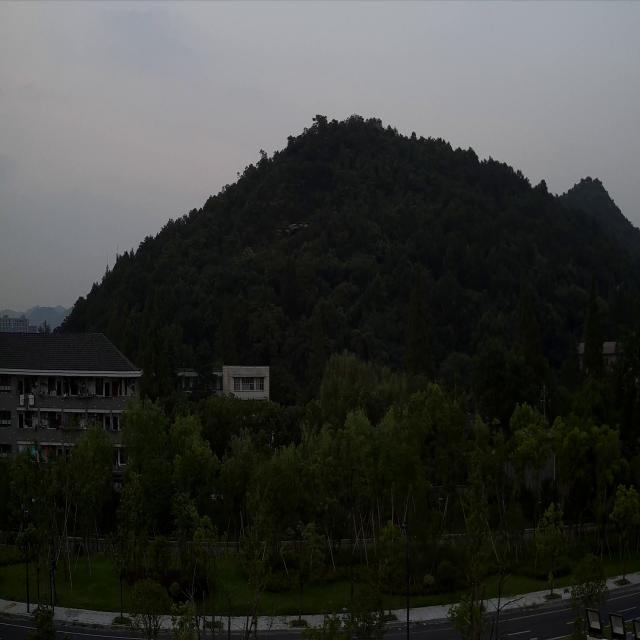drone: (276, 221, 308, 237)
